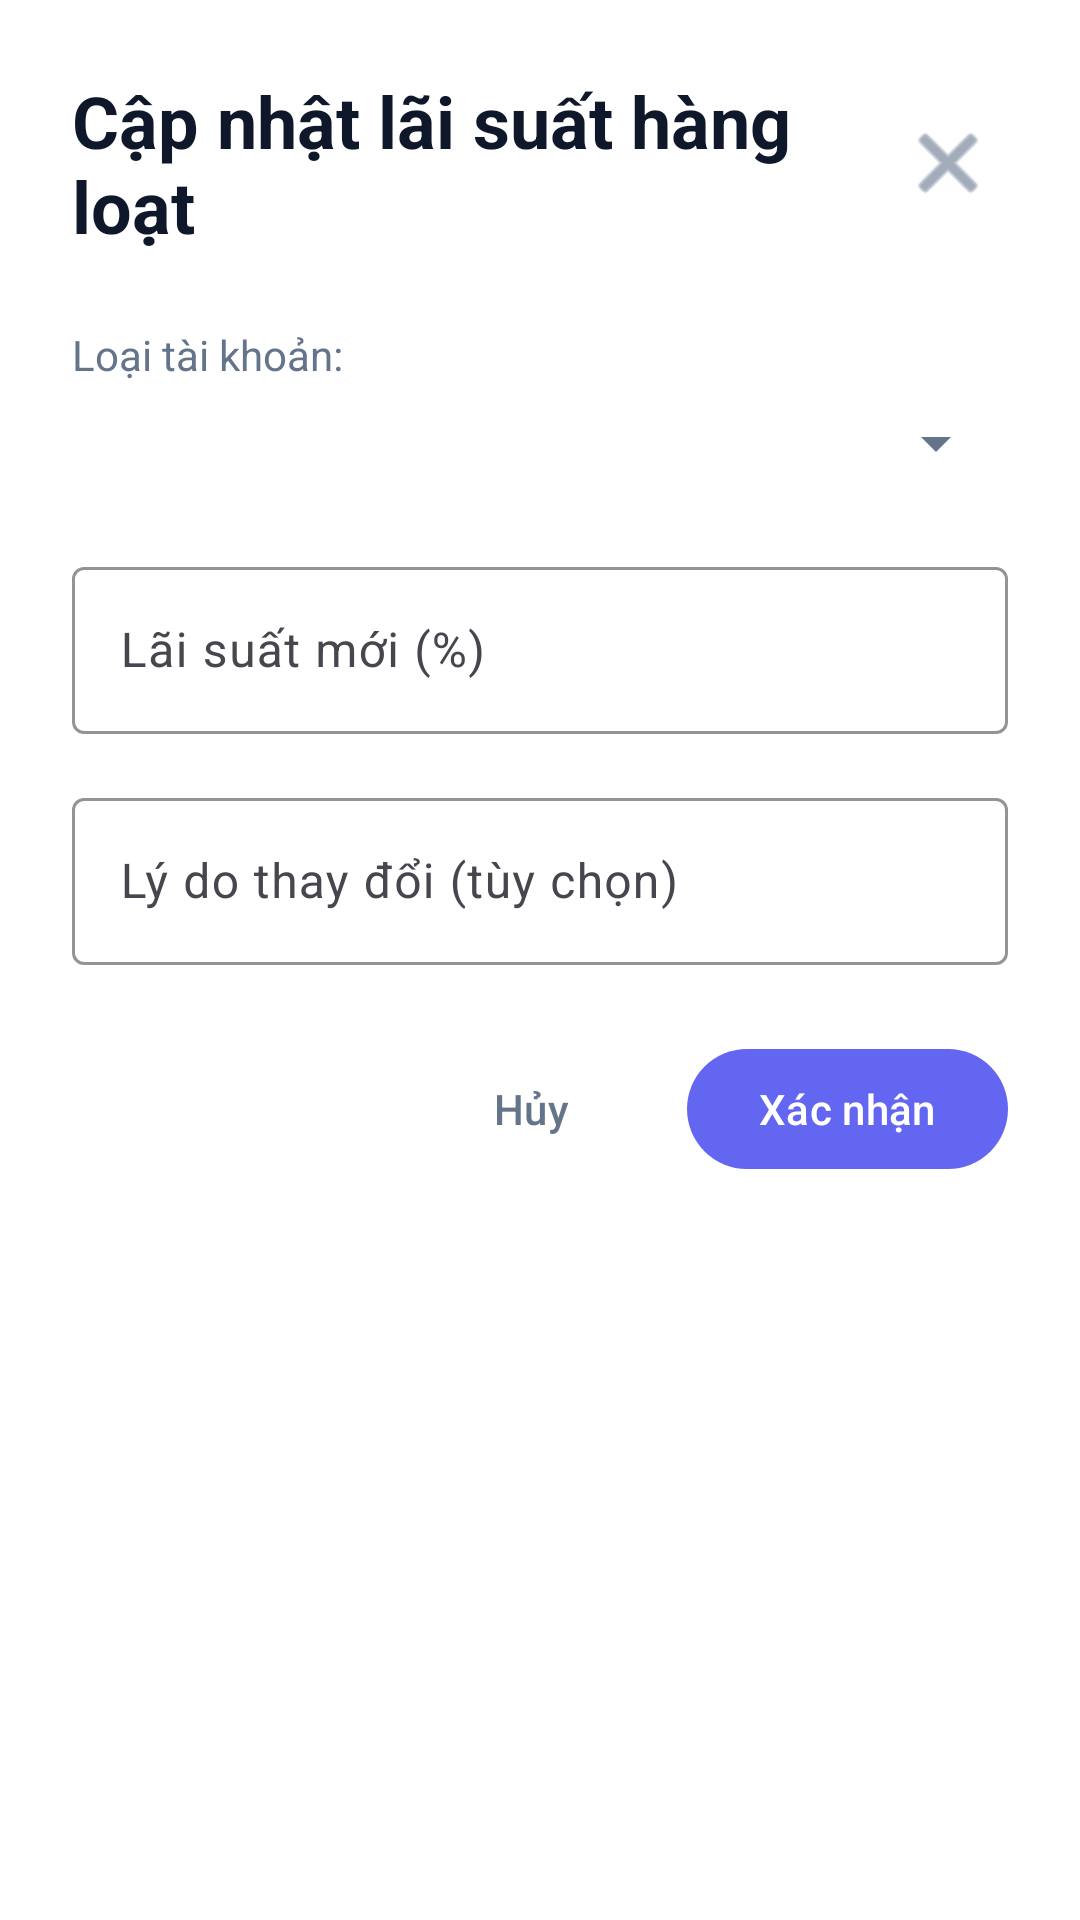

Screen size 1080 x 1920. Icon name, then its box in pixels as (x1, y1, x2, y2):
Close: (918, 133, 978, 193)
